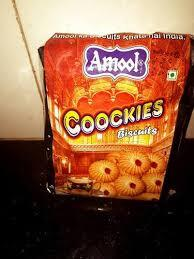VEG: (167, 69, 177, 80)
